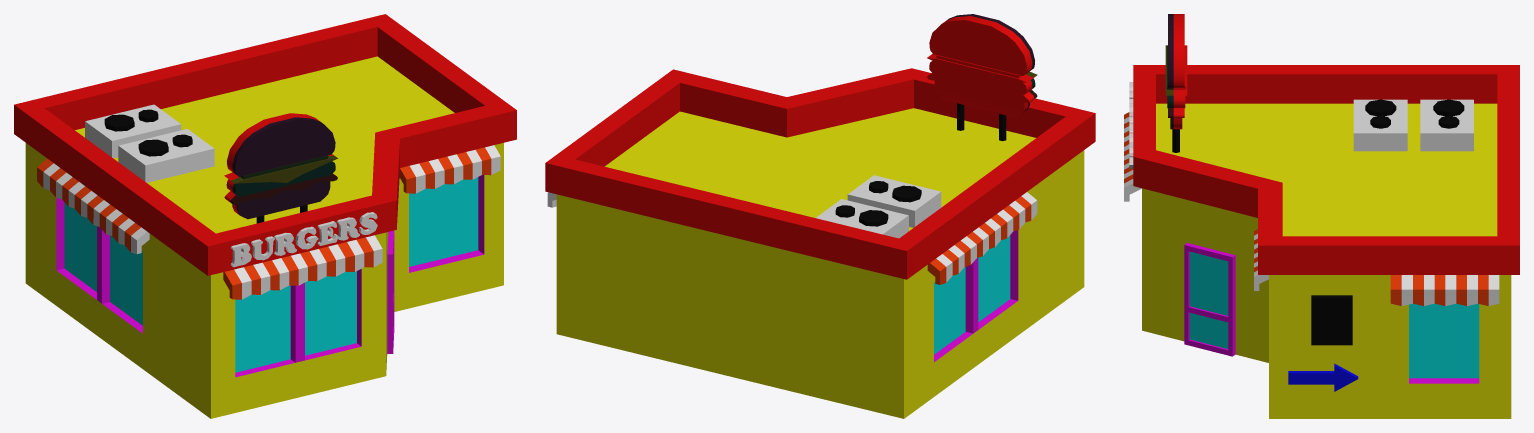
File: BurgerShop.fbx
3 renders of one model, left to right at view 1: azimuth 30°, elevation 25°; view 2: azimuth 150°, elevation 25°; view 3: azimuth 270°, elevation 25°, orthographic. The views are drawn at different scales.
Visible parts, largest first — view 1: BurgerShop; view 2: BurgerShop; view 3: BurgerShop.
Part boxes in pixels (x1,y1,x2,y2): BurgerShop: (14,14,516,418); BurgerShop: (545,14,1095,418); BurgerShop: (1124,14,1519,418).
Size of the model in its own units: 903 by 595 by 806.
